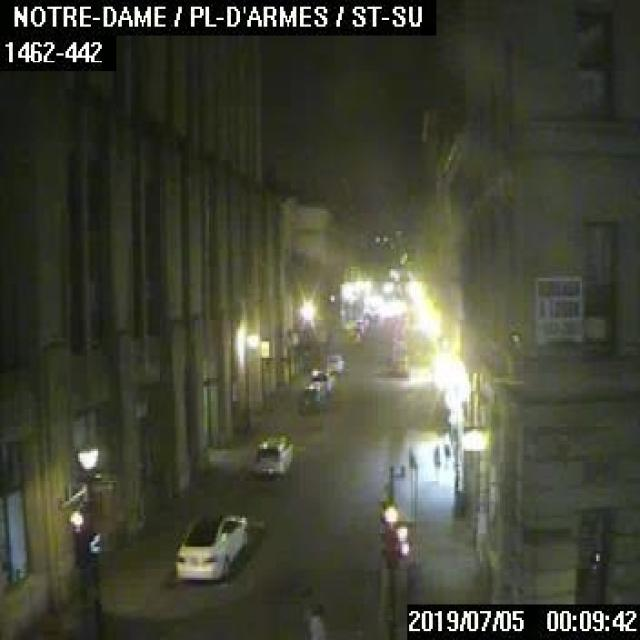pedestrian: (300, 600, 327, 638)
vehicle: (173, 511, 247, 580), (247, 429, 293, 478), (298, 378, 330, 410), (323, 352, 346, 376), (390, 351, 407, 375), (342, 328, 360, 347), (353, 319, 363, 332)
